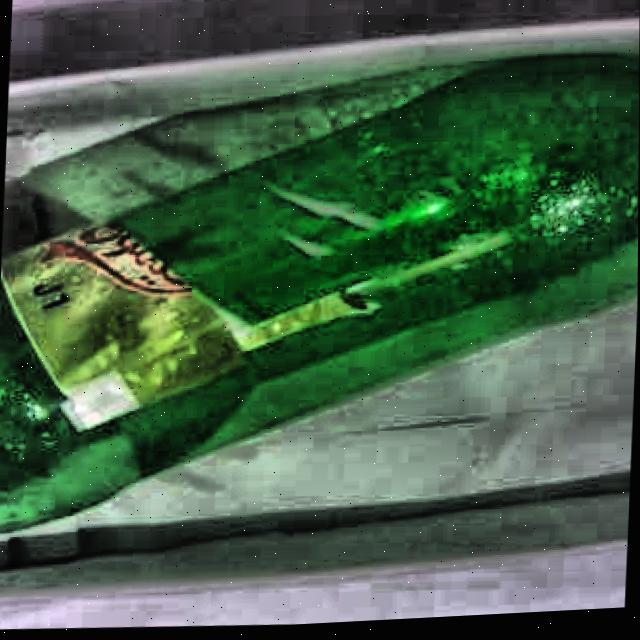plastic: (0, 5, 640, 569)
